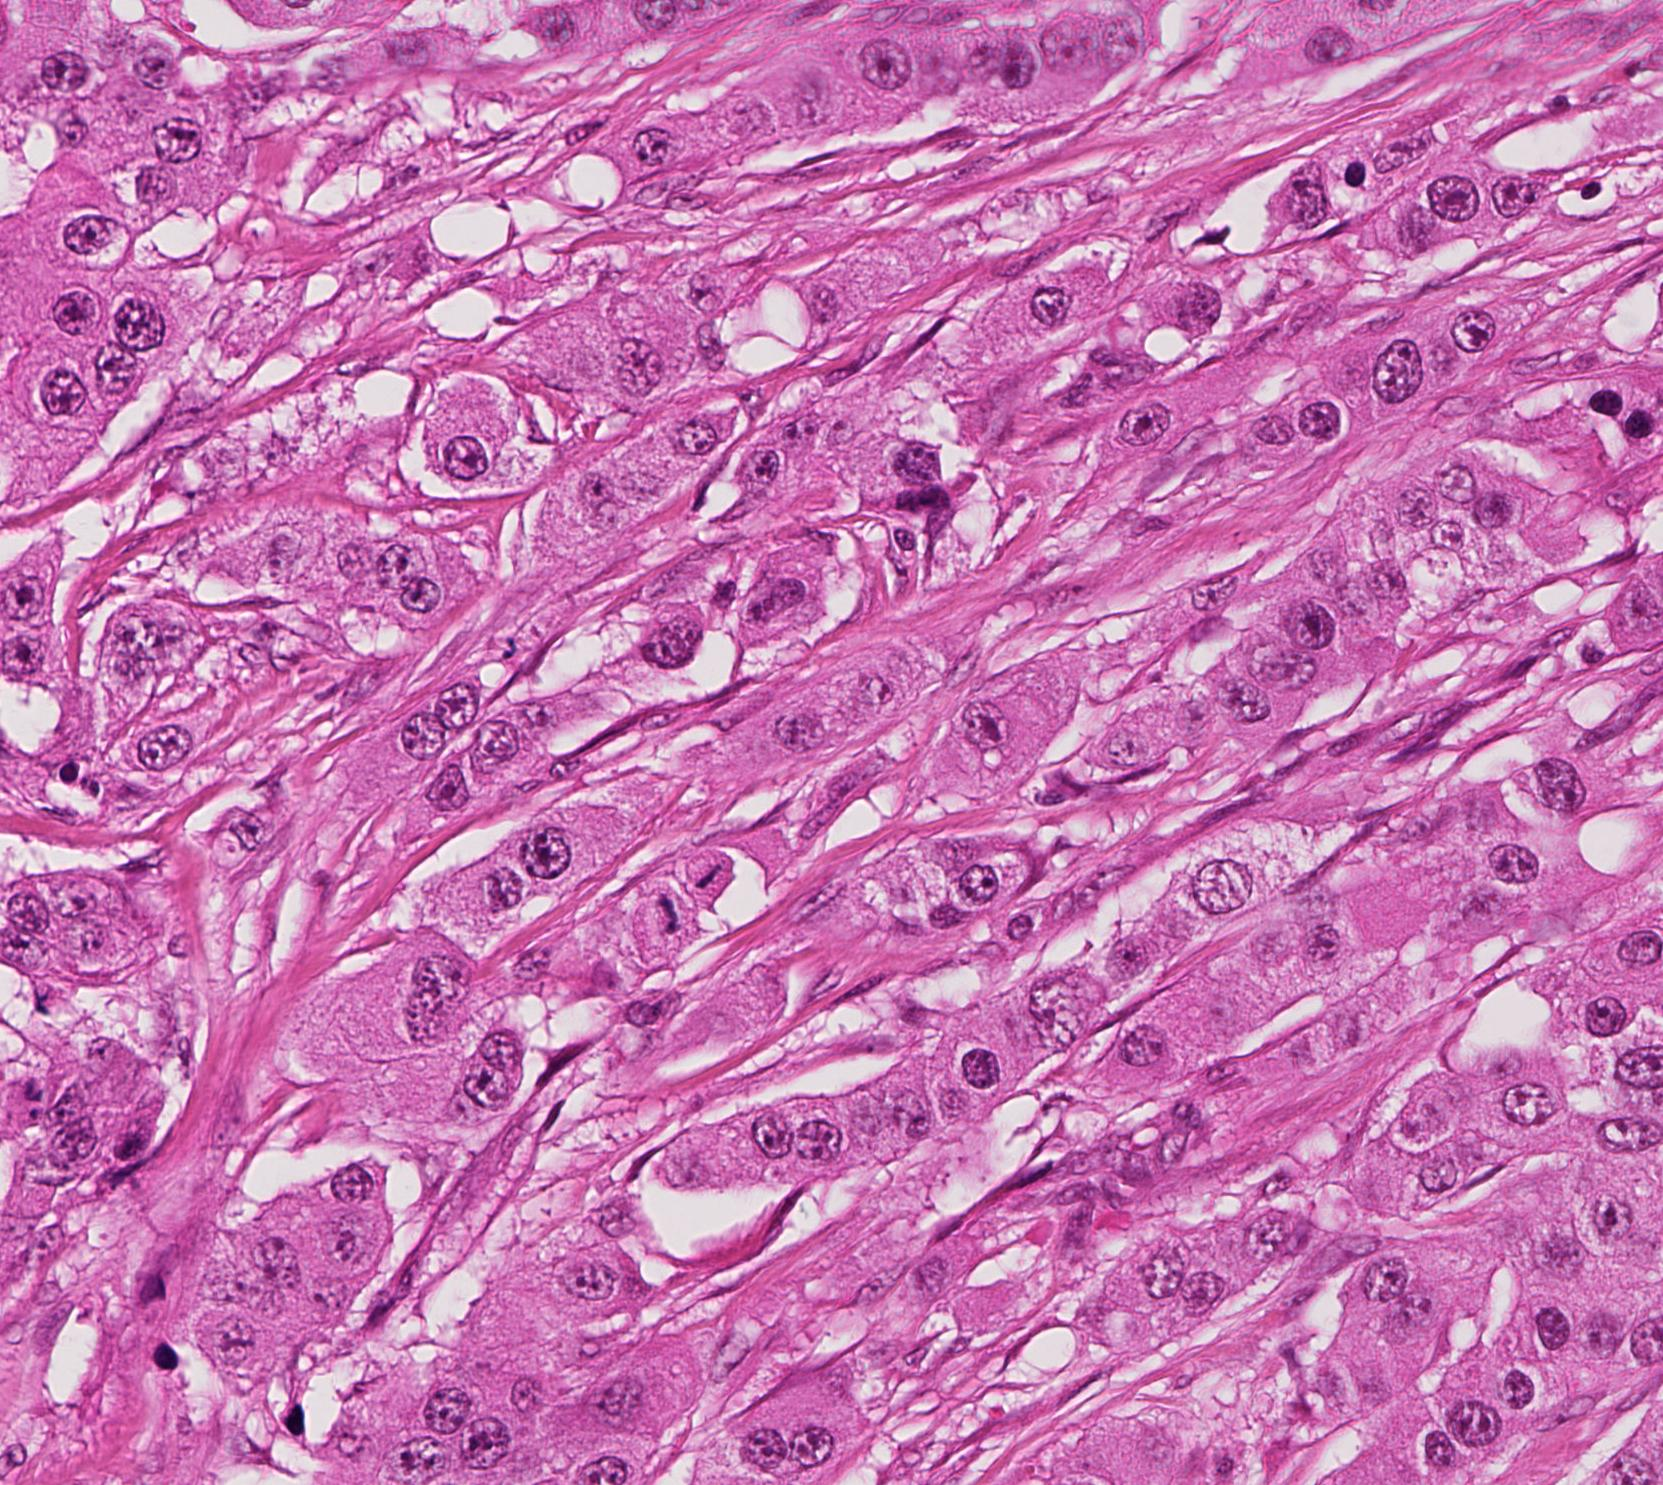mitosis: (639, 880, 700, 940), (681, 839, 741, 897)
